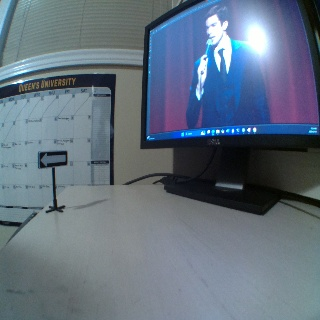sign_oneway_left: (37, 149, 67, 166)
